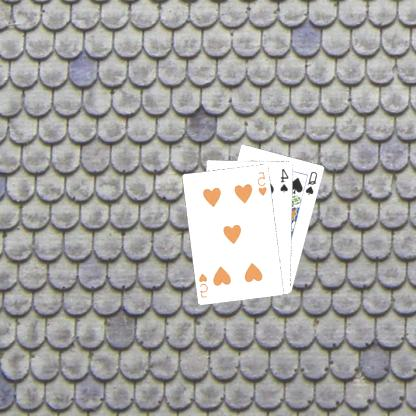4S: (279, 166, 292, 194)
5H: (256, 169, 270, 197), (198, 270, 211, 298)
QS: (305, 169, 321, 196)
